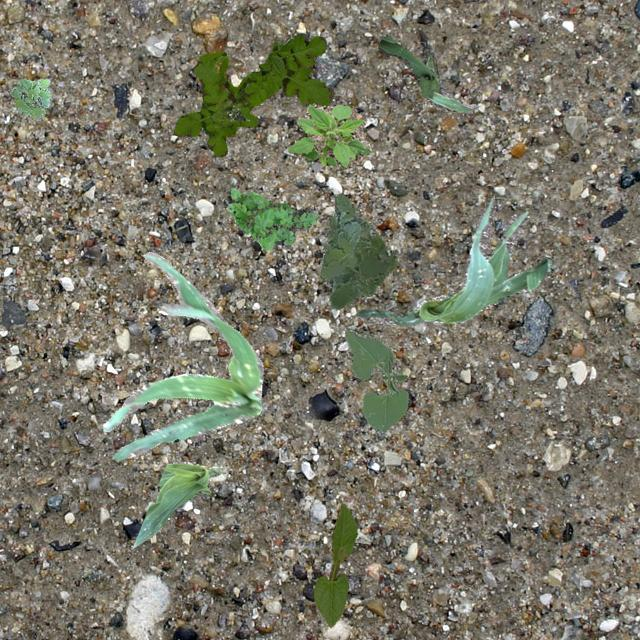crop: (101, 250, 262, 460), (357, 194, 550, 326), (132, 460, 222, 548), (378, 36, 478, 112), (343, 328, 408, 434), (313, 502, 357, 626)
weed: (172, 34, 332, 156), (319, 192, 396, 308), (222, 186, 318, 248), (286, 102, 369, 166), (10, 78, 50, 120)
